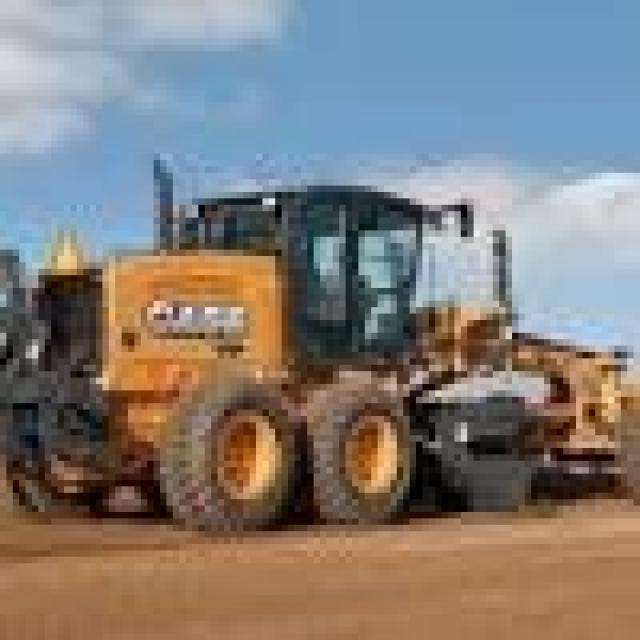Grader: (12, 153, 634, 570)
